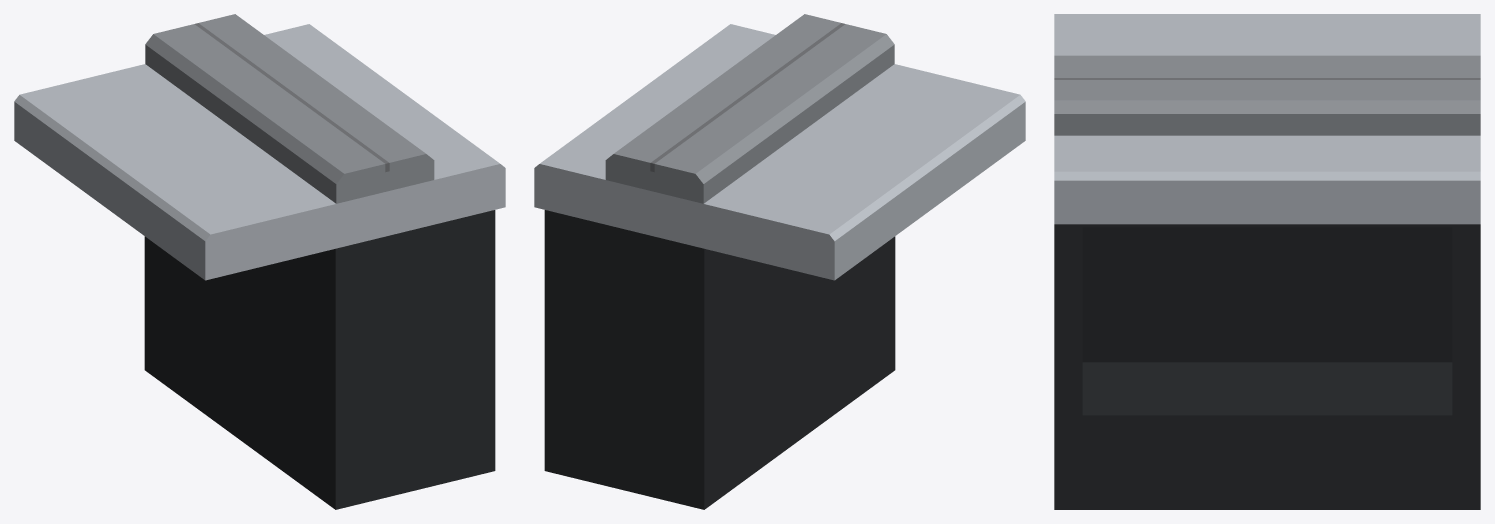
Rendered from SM_Prop_Sushi_Bar_01.obj.
3 views of the same model, side by side, from view 1: azimuth 30°, elevation 25°; view 2: azimuth 150°, elevation 25°; view 3: azimuth 270°, elevation 25° (orthographic). The views are drawn at different scales.
Parts seen in each view (by area): view 1: SM_Prop_Sushi_Bar_01_0; view 2: SM_Prop_Sushi_Bar_01_0; view 3: SM_Prop_Sushi_Bar_01_0.
Part boxes in pixels (x1=…): SM_Prop_Sushi_Bar_01_0: x1=14, y1=14, x2=505, y2=509; SM_Prop_Sushi_Bar_01_0: x1=534, y1=14, x2=1025, y2=509; SM_Prop_Sushi_Bar_01_0: x1=1054, y1=14, x2=1480, y2=509.
Bounding box in the file's own units: 1.14 × 1.21 × 1.25.
Materials: 1 (1 with a texture image).
